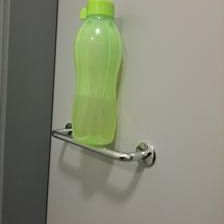bottle: (68, 2, 124, 143)
